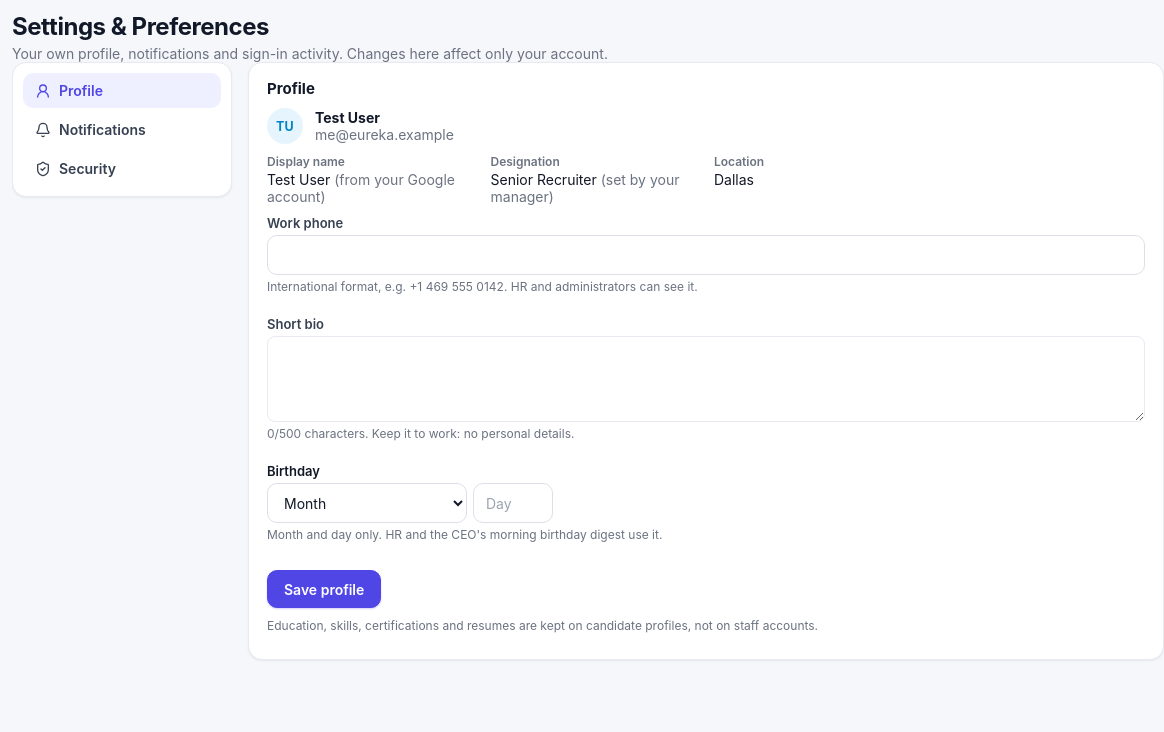
Test case: Settings & Preferences › explains a stale profile save
Step 1. Click the button "Save profile" → (324, 589), box [267, 570, 381, 608]
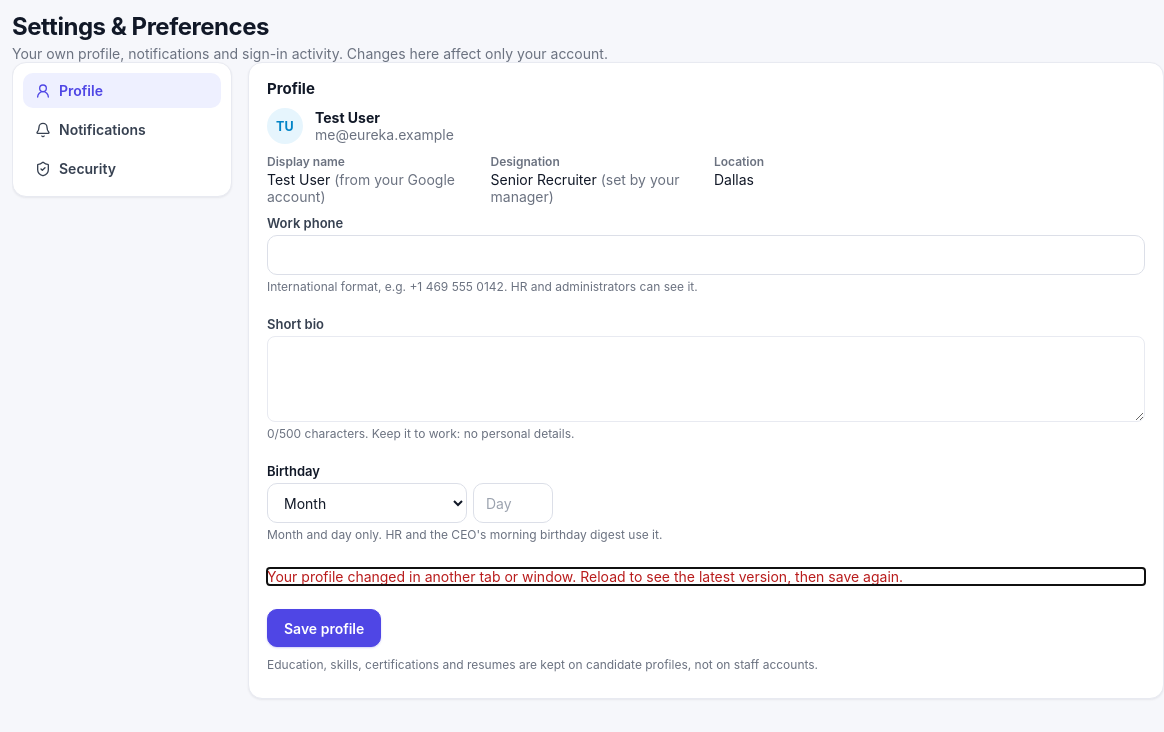
Expected: the message shows "changed in another tab", [267, 568, 903, 585]
